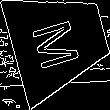M_E: (30, 12, 88, 71)
